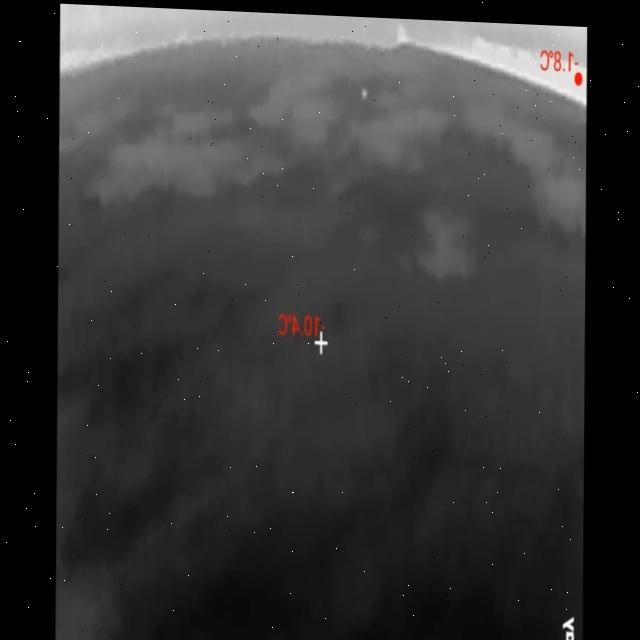drone: (361, 82, 367, 97)
